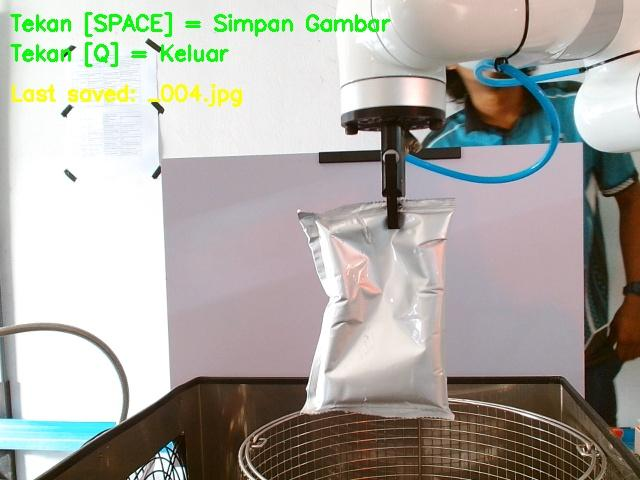retort-pouch: (292, 197, 455, 421)
